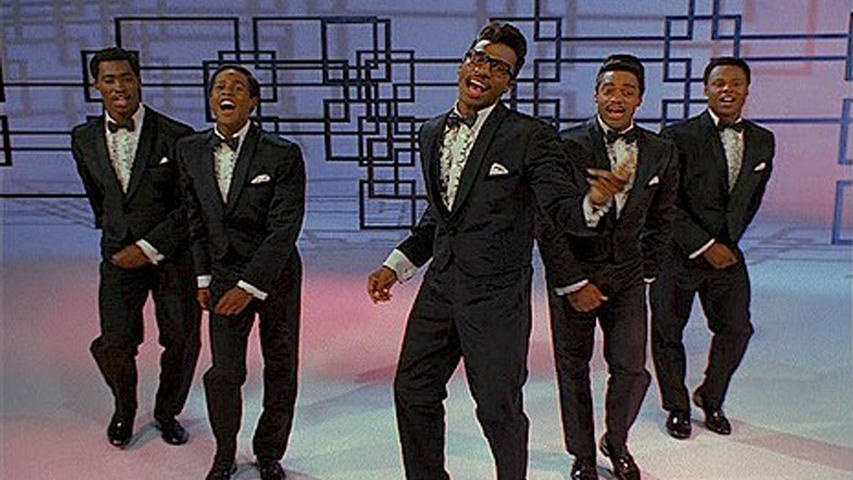bad: (453, 46, 515, 108), (208, 74, 252, 118), (708, 70, 751, 113), (597, 79, 640, 122), (97, 70, 133, 106)
